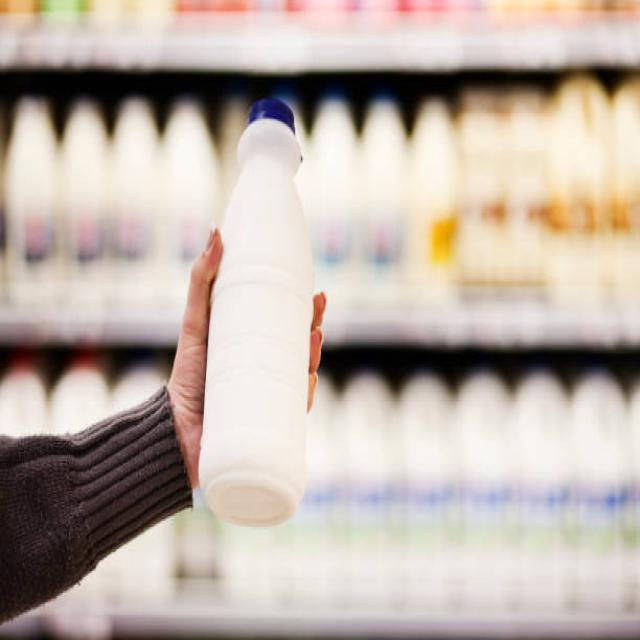article: (199, 102, 313, 525)
hands: (166, 229, 222, 488), (307, 293, 323, 411)
